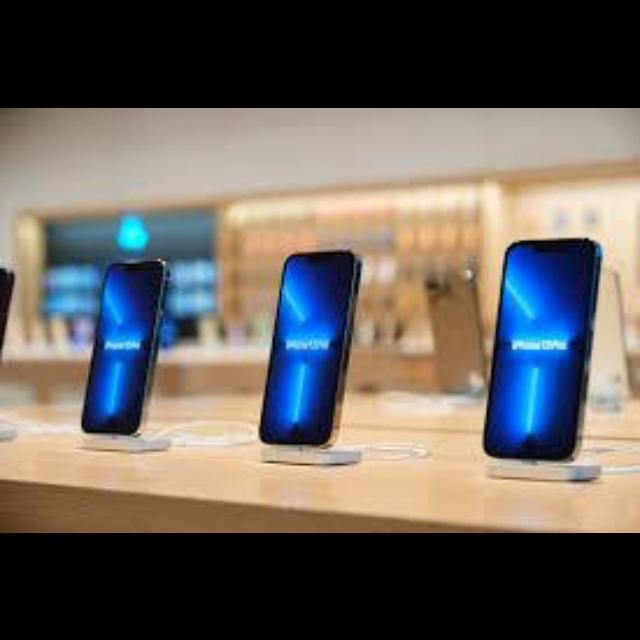Phone: (494, 233, 596, 465), (266, 244, 362, 451), (86, 252, 166, 442)
